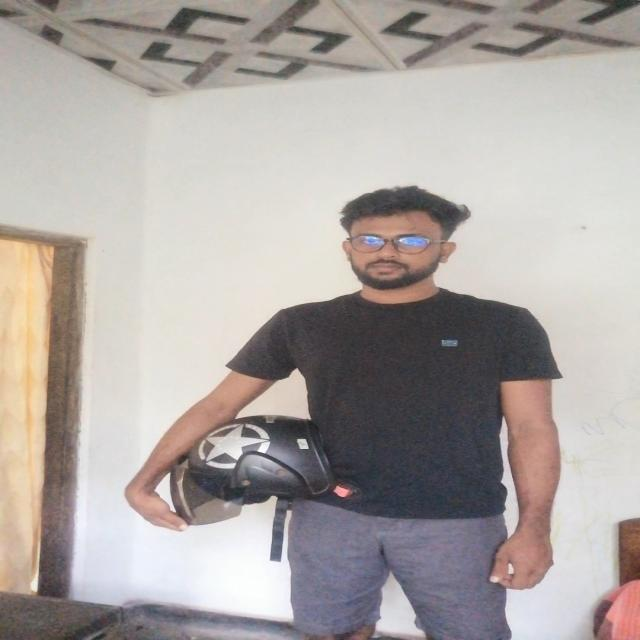Person: (126, 186, 569, 640)
